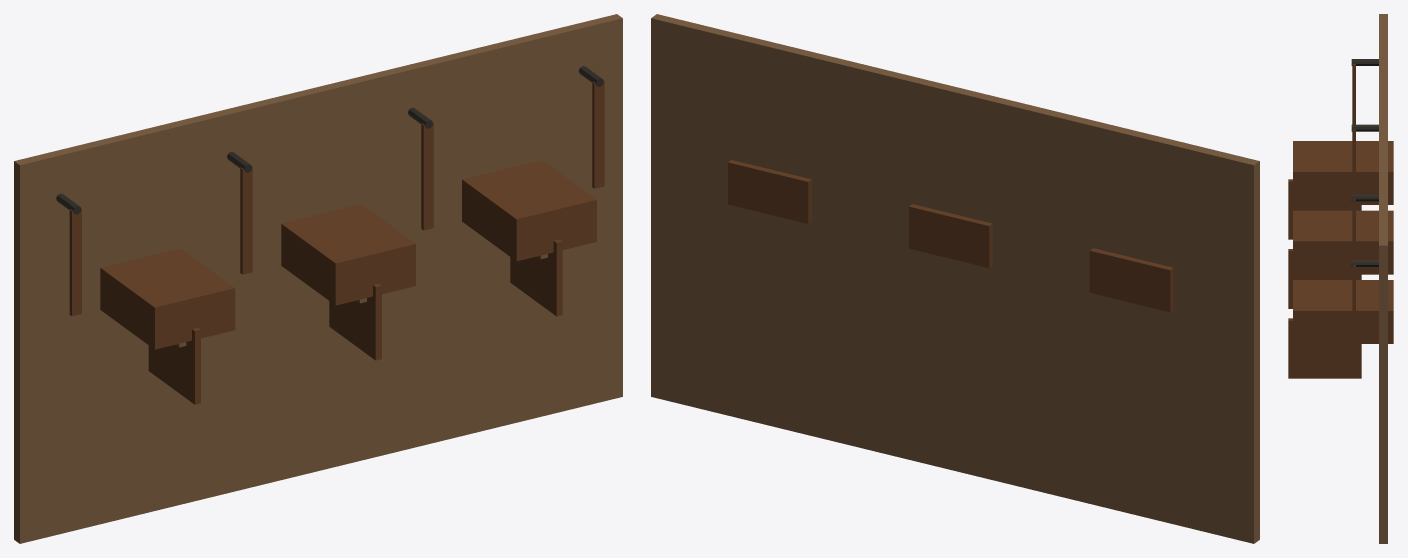
Rendered from tack wall.glb.
3 views of the same model, side by side, from view 1: azimuth 30°, elevation 25°; view 2: azimuth 150°, elevation 25°; view 3: azimuth 270°, elevation 25° (orthographic). The views are drawn at different scales.
Visible parts, largest first — view 1: tack wall; view 2: tack wall; view 3: tack wall.
Boxes of the visible parts, x1,y1,x2,y2 form: tack wall: (14, 14, 622, 543); tack wall: (651, 14, 1259, 543); tack wall: (1288, 14, 1393, 543).
Size of the model in its own units: 3 by 1.8 by 0.575.
